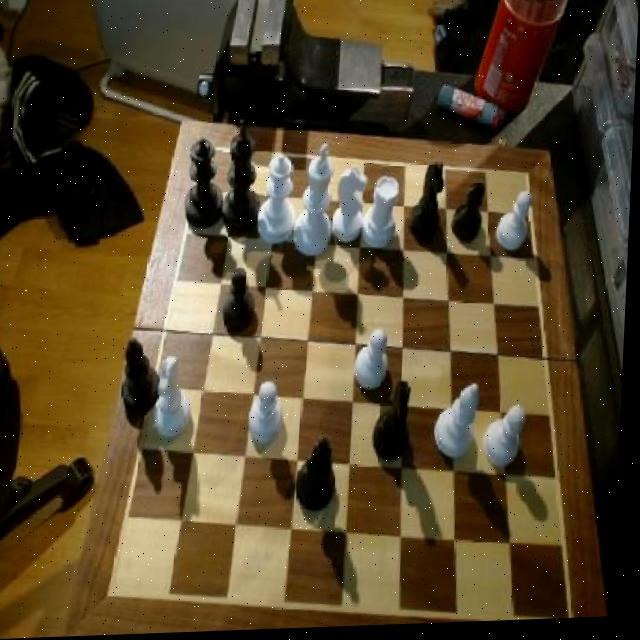bishop: (296, 437, 343, 518), (122, 335, 164, 420)
black-bishop: (222, 118, 265, 235)
black-king: (373, 383, 418, 466), (407, 162, 449, 249)
black-knight: (220, 269, 260, 338), (452, 186, 490, 248)
black-pawn: (183, 136, 227, 235)
black-rook: (433, 384, 485, 465)
white-bishop: (293, 144, 338, 263)
white-king: (153, 355, 196, 442), (330, 168, 369, 249)
white-knight: (483, 410, 531, 479), (248, 381, 291, 451), (354, 331, 398, 399), (496, 193, 535, 258)
white-pawn: (257, 156, 300, 253)
white-queen: (362, 176, 403, 258)
